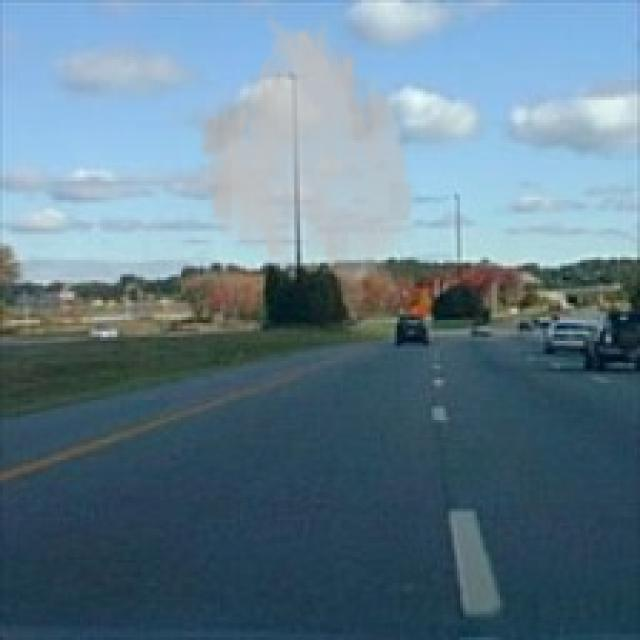smoke: (194, 8, 417, 288)
